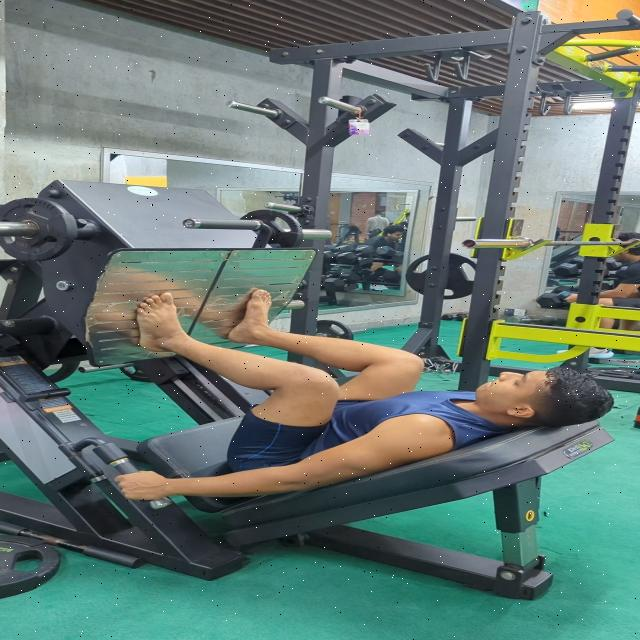Normal_LegPress: (44, 290, 616, 502)
